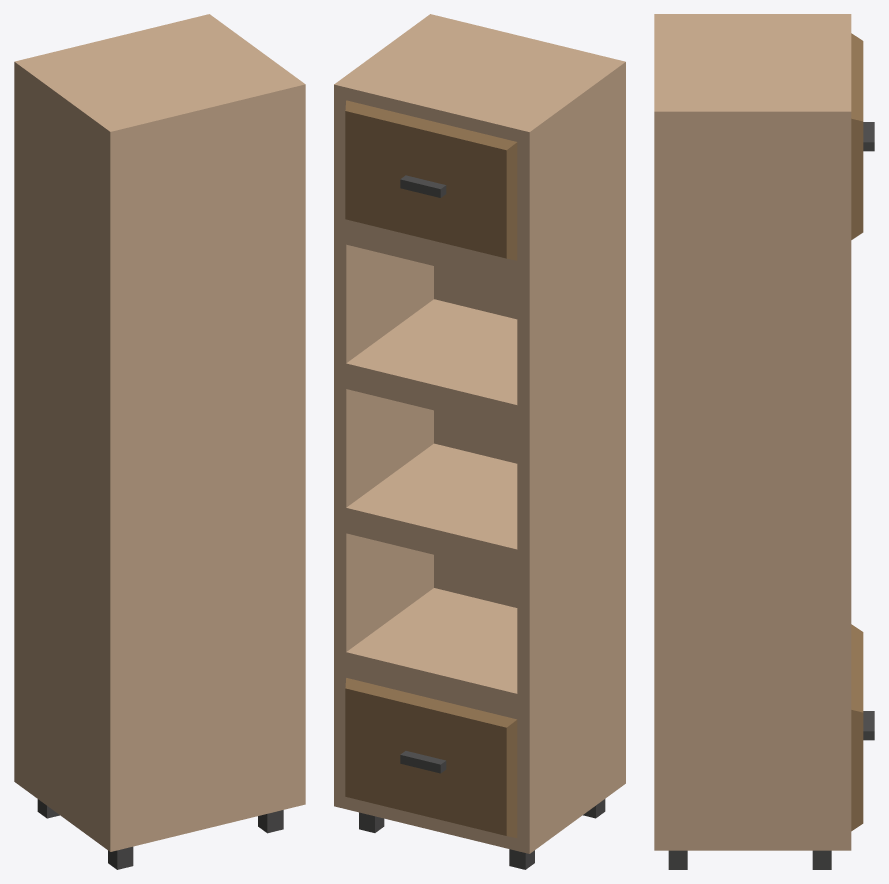
File: cabinet.fbx
3 renders of one model, left to right at view 1: azimuth 30°, elevation 25°; view 2: azimuth 150°, elevation 25°; view 3: azimuth 270°, elevation 25°, orthographic. The views are drawn at different scales.
Visible parts, largest first — view 1: cabinet; view 2: cabinet; view 3: cabinet.
Part boxes in pixels (left/top/right/bottom): cabinet: left=14, top=14, right=305, bottom=869; cabinet: left=334, top=14, right=625, bottom=869; cabinet: left=654, top=14, right=874, bottom=869.
Bounding box in the file's own units: 64.68 × 236 × 61.68.
